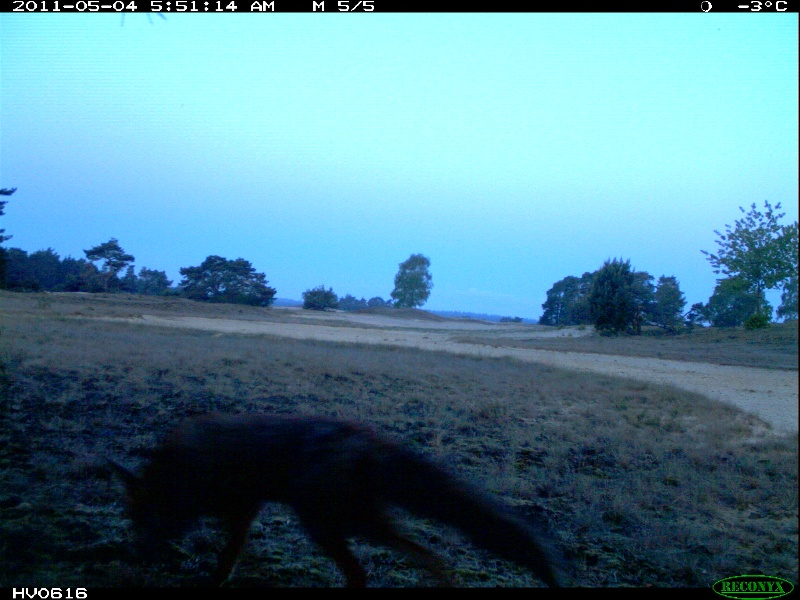fox: (107, 412, 574, 586)
